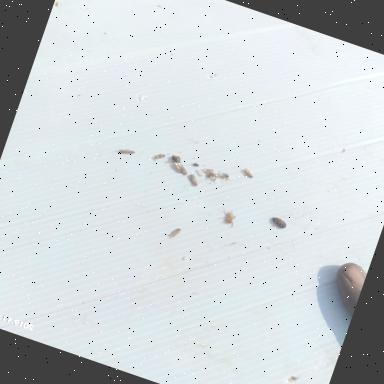pbw: (148, 149, 168, 164), (237, 166, 256, 180), (185, 173, 202, 187), (118, 145, 136, 158), (176, 162, 190, 178), (169, 226, 183, 240), (170, 162, 182, 173)
